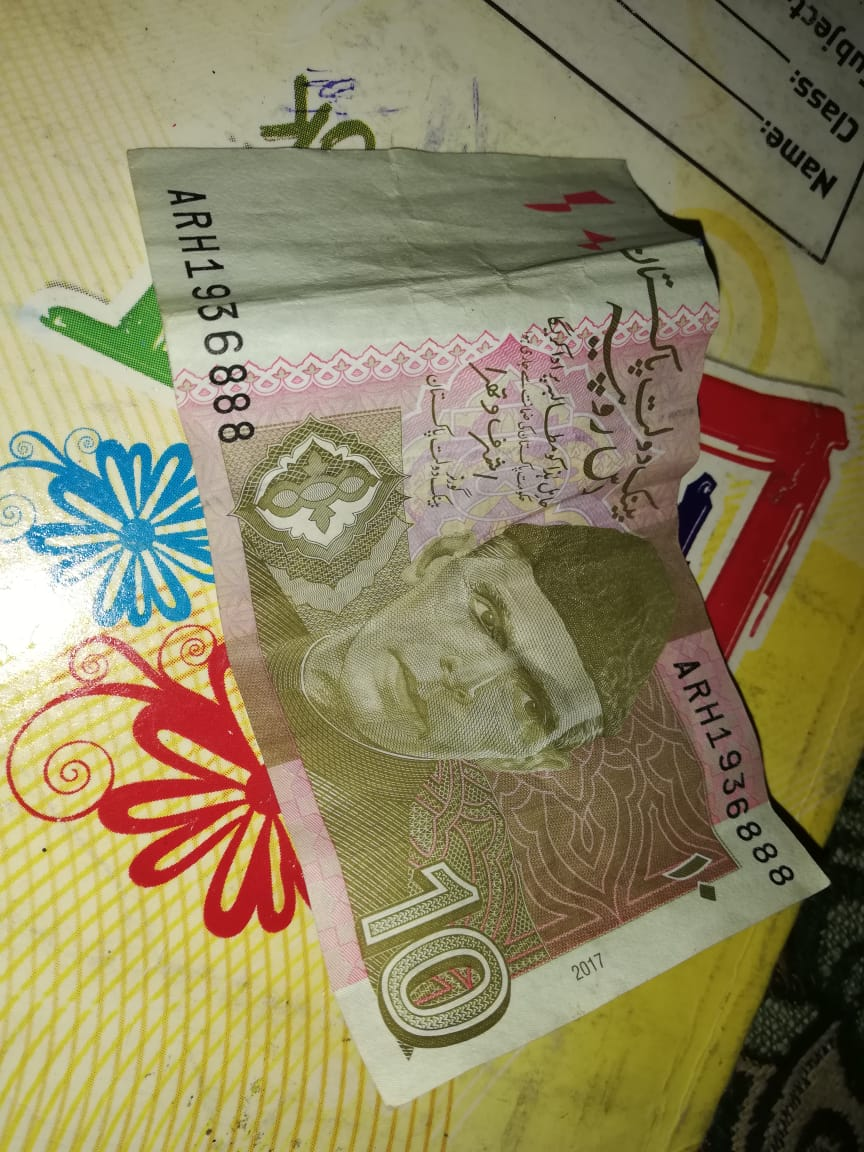10 rupee: (123, 110, 834, 1064)
